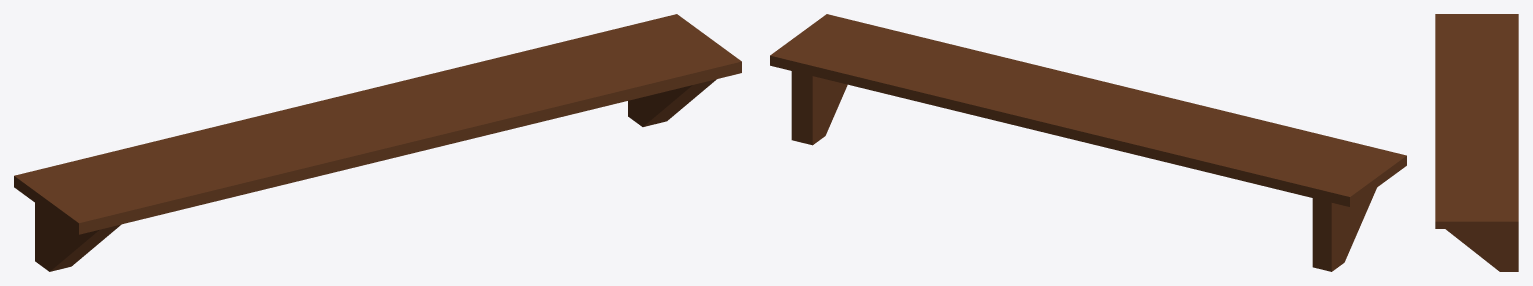
File: Res01_Wall_Hang_Table.fbx
The picture shows the model from 3 angles, left to right: view 1: azimuth 30°, elevation 25°; view 2: azimuth 150°, elevation 25°; view 3: azimuth 270°, elevation 25°; orthographic projection. The views are drawn at different scales.
Visible parts, largest first — view 1: Res01_Wall_Hang_Table; view 2: Res01_Wall_Hang_Table; view 3: Res01_Wall_Hang_Table.
Boxes of the visible parts, x1,y1,x2,y2 form: Res01_Wall_Hang_Table: (14, 14, 741, 271); Res01_Wall_Hang_Table: (770, 14, 1406, 271); Res01_Wall_Hang_Table: (1435, 14, 1518, 271).
Bounding box in the file's own units: 472 × 61.67 × 80.05.
